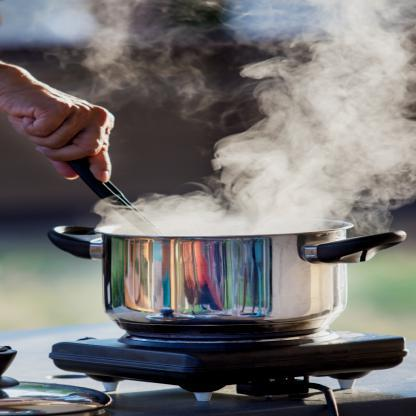smoke: (208, 0, 415, 227)
